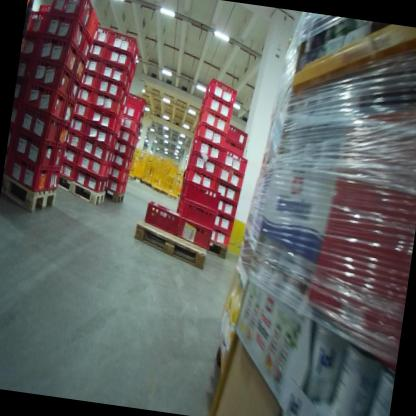pallet: (127, 217, 214, 273), (0, 171, 59, 216), (54, 176, 107, 209), (206, 240, 232, 258), (104, 186, 127, 206)
small_load_carrier: (26, 55, 77, 107), (34, 29, 82, 80), (21, 76, 69, 124), (38, 8, 88, 54), (11, 125, 58, 170), (45, 0, 92, 38), (141, 196, 185, 236), (6, 153, 53, 190), (18, 102, 62, 140), (173, 217, 216, 251), (100, 25, 141, 57), (175, 196, 220, 225), (180, 179, 221, 210), (91, 70, 126, 104), (101, 41, 136, 75), (203, 76, 240, 108), (95, 60, 132, 90), (197, 91, 238, 118), (196, 105, 231, 136), (217, 146, 250, 177), (79, 135, 111, 164), (87, 104, 120, 132), (190, 136, 224, 163), (214, 174, 245, 203), (194, 119, 228, 145), (76, 153, 108, 180), (183, 164, 219, 188), (80, 8, 103, 45), (84, 122, 114, 150), (72, 166, 104, 192), (186, 152, 222, 174), (216, 165, 245, 192), (92, 90, 122, 115), (57, 96, 79, 129), (221, 124, 251, 148), (24, 10, 50, 35), (122, 90, 147, 114), (88, 21, 111, 45), (70, 95, 94, 118), (214, 194, 237, 218), (60, 142, 81, 168), (57, 158, 78, 184), (117, 111, 140, 134), (67, 72, 83, 105), (212, 209, 236, 231), (85, 37, 110, 58), (76, 80, 97, 105), (68, 111, 88, 137), (84, 48, 103, 75), (78, 67, 98, 92), (55, 117, 71, 148), (46, 165, 62, 196), (64, 127, 85, 150), (77, 35, 95, 61), (52, 143, 68, 172), (210, 228, 233, 248), (17, 54, 34, 80), (115, 126, 137, 146), (108, 161, 128, 183), (221, 138, 246, 155), (109, 151, 130, 171), (119, 104, 142, 122), (35, 0, 58, 17), (75, 52, 87, 84), (113, 137, 131, 157), (104, 177, 125, 194), (22, 31, 37, 54), (13, 78, 27, 102), (11, 101, 23, 129), (6, 125, 16, 157), (101, 161, 113, 181), (123, 74, 134, 95), (131, 47, 141, 70), (117, 93, 129, 109), (125, 65, 137, 81), (118, 99, 125, 125), (97, 178, 108, 194), (109, 131, 117, 152), (105, 150, 114, 165), (114, 117, 121, 134), (126, 157, 133, 171), (128, 148, 135, 159)
